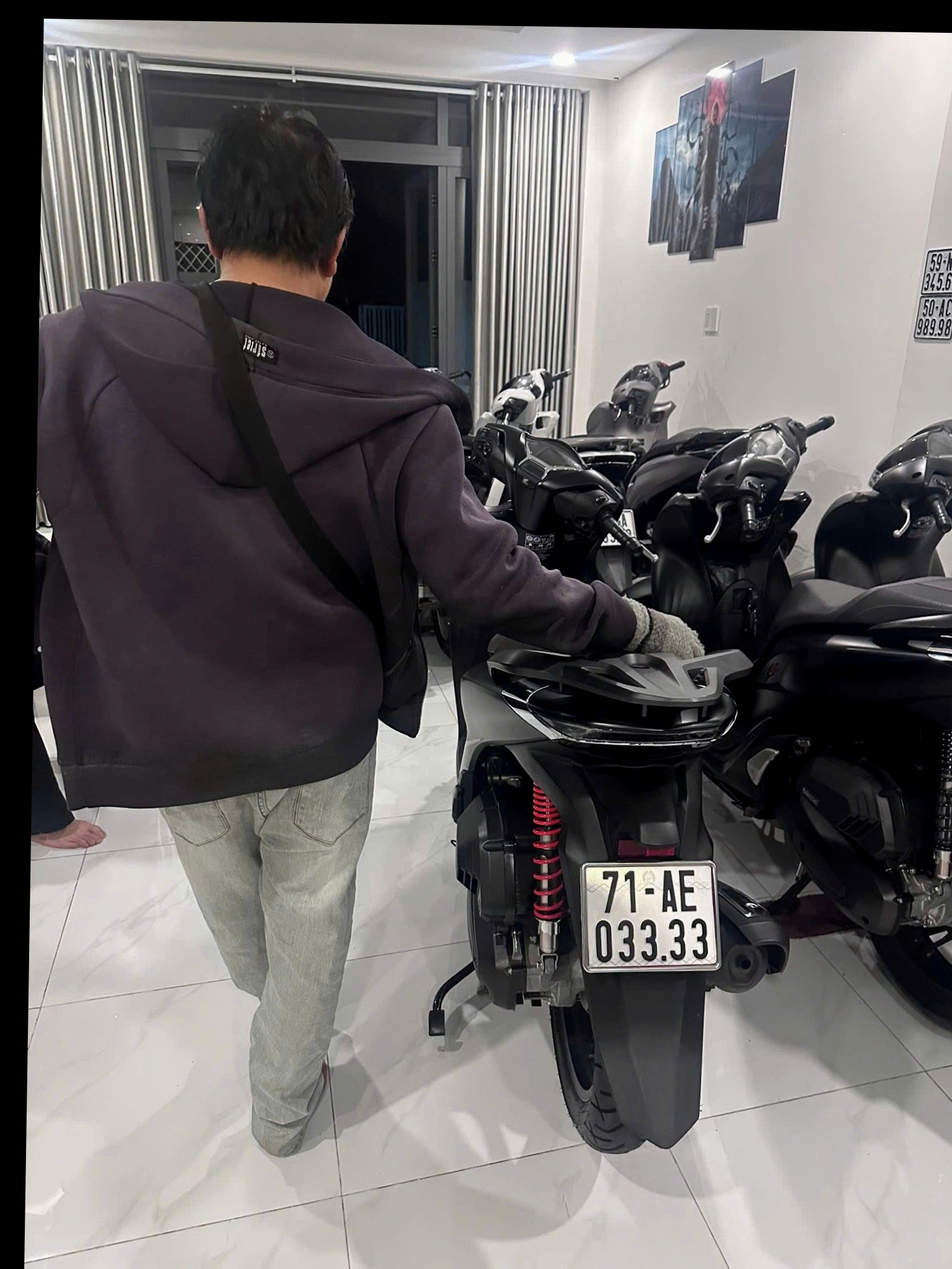Bien-so: (581, 858, 719, 971)
